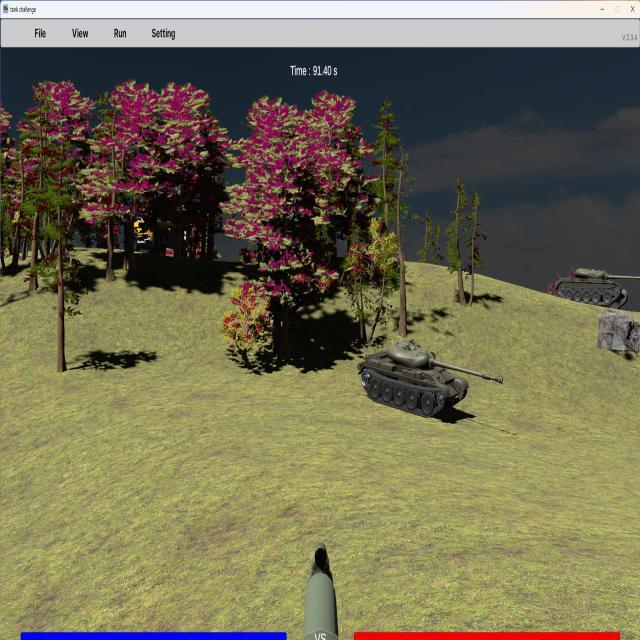Tank: (357, 341, 505, 420), (555, 266, 640, 311)
